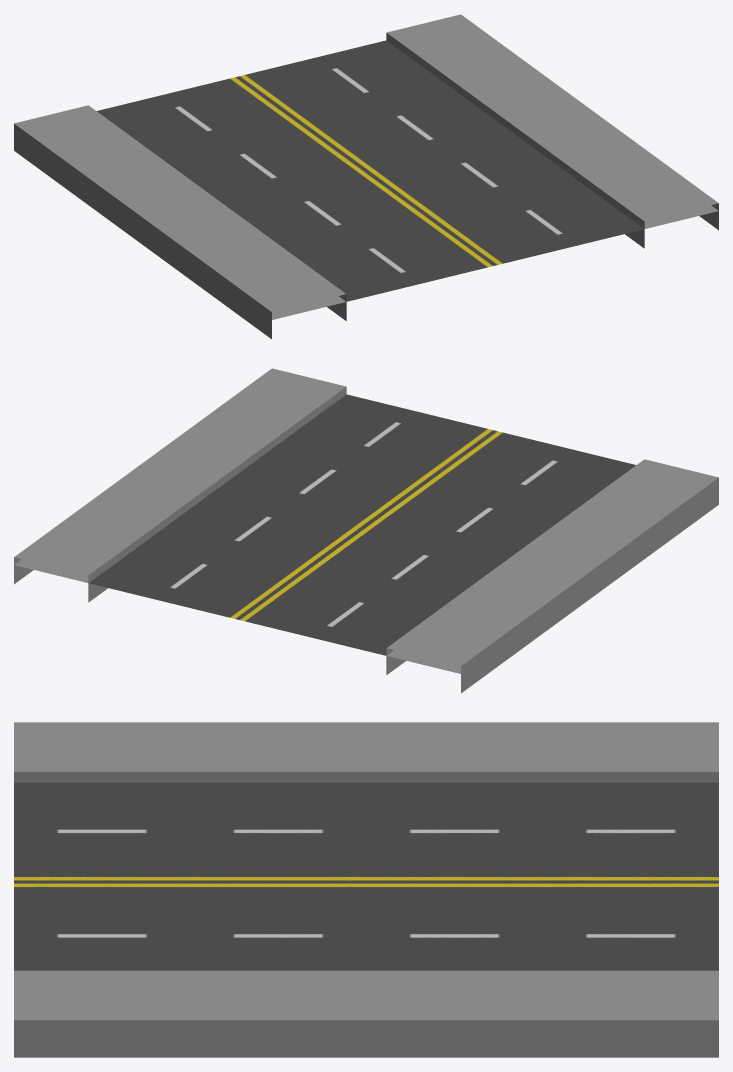
3 views of the same model, one above another, from view 1: azimuth 30°, elevation 25°; view 2: azimuth 150°, elevation 25°; view 3: azimuth 270°, elevation 25° (orthographic). The views are drawn at different scales.
Visible parts, largest first — view 1: Model_0, Skybox; view 2: Model_0, Skybox; view 3: Model_0, Skybox.
Boxes of the visible parts, x1=… form: Model_0: x1=14, y1=14, x2=718, y2=339; Skybox: x1=102, y1=40, x2=718, y2=319; Model_0: x1=14, y1=368, x2=718, y2=693; Skybox: x1=14, y1=398, x2=635, y2=673; Model_0: x1=14, y1=722, x2=718, y2=1057; Skybox: x1=14, y1=782, x2=718, y2=970.
Size of what is drawn, in the model's own units: 2400 by 140 by 2400.
